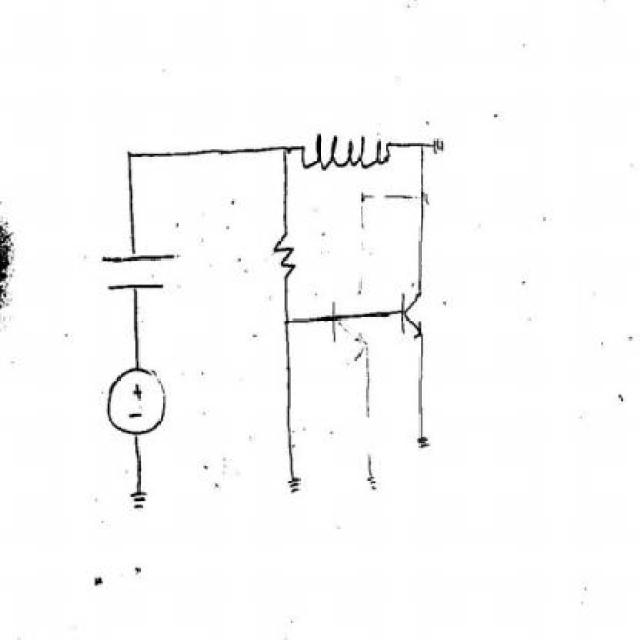capacitor: (93, 234, 185, 308)
ground: (273, 458, 320, 501), (120, 480, 160, 524), (399, 423, 451, 451), (427, 124, 455, 165)
inductor: (300, 122, 394, 180)
resistor: (266, 212, 306, 292)
transistor: (394, 282, 433, 345)
voltage_source: (102, 366, 170, 444)
